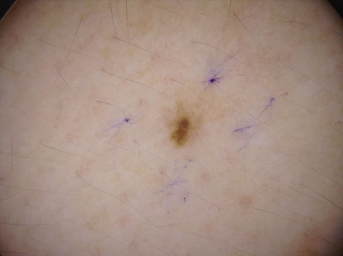melanoma: (172, 115, 190, 145)
